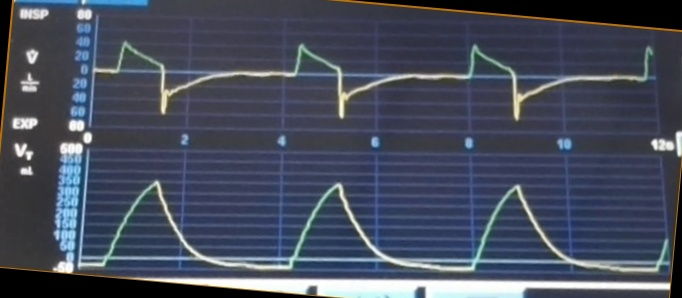Normal Flow: (97, 32, 653, 125)
Normal Volume: (89, 178, 667, 275)
